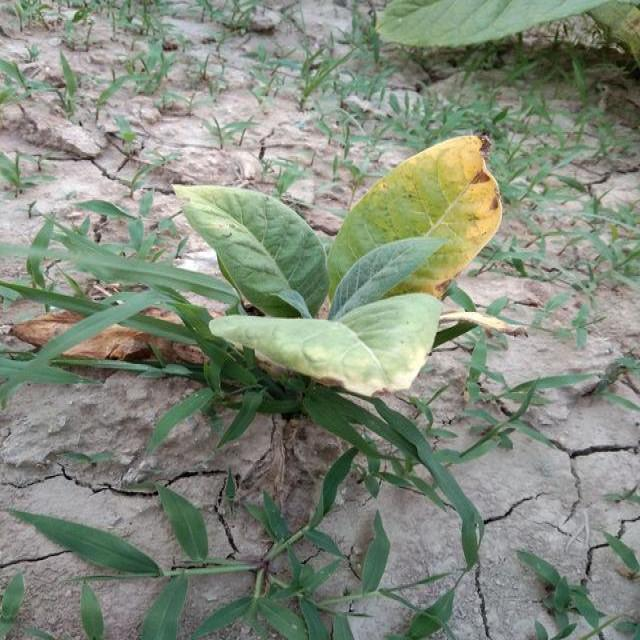crop: (180, 130, 496, 387), (376, 0, 639, 52)
